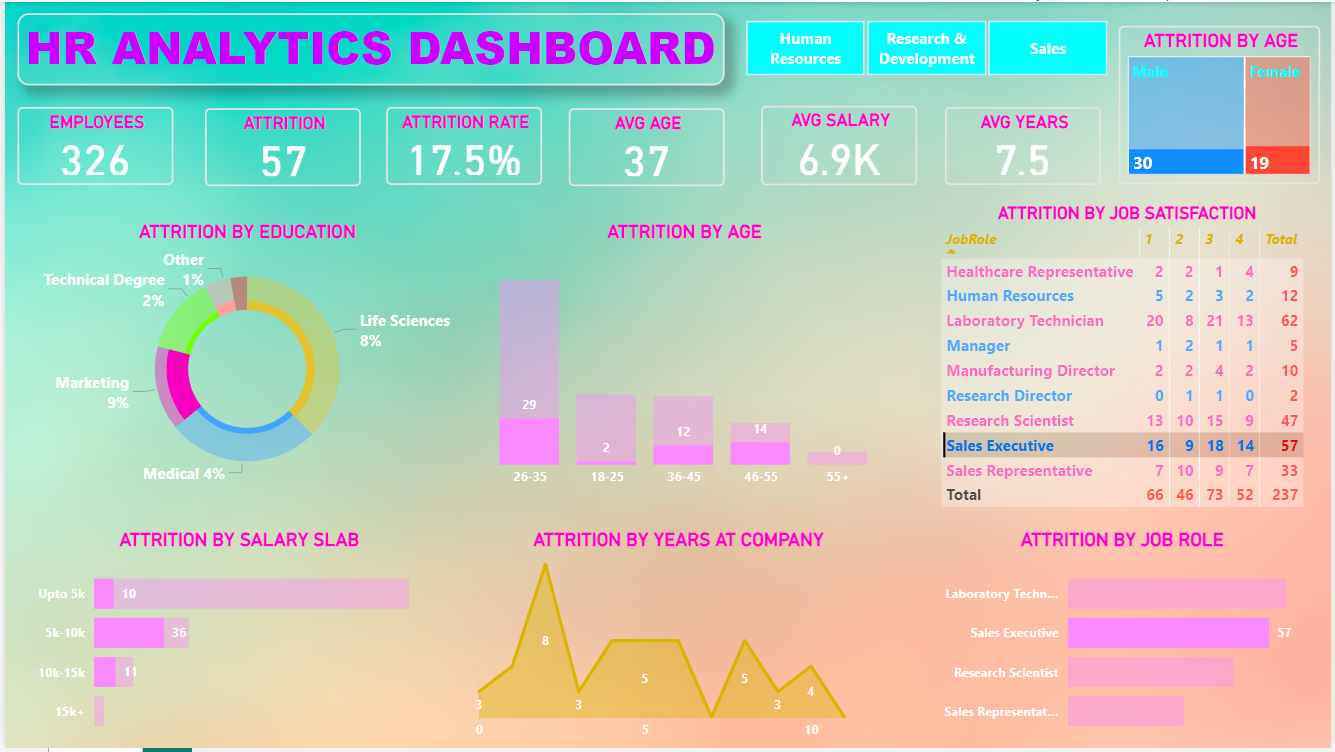

Layout of this report page (visuals, bound fields, positions):
{"tool":"powerbi","page":{"name":"Page 1","canvas":[1280,720],"ordinal":0},"visuals":[{"type":"card","title":"EMPLOYEES","fields":{"Values":["CountNonNull(HR_Analytics.EmpID)"]},"box":[11.7,101.6,150.3,75.1],"z":0},{"type":"card","title":"ATTRITION","fields":{"Values":["Sum(HR_Analytics.AttritionCount)"]},"box":[193,102.3,150.3,75.1],"z":1000},{"type":"card","title":"ATTRITION RATE","fields":{"Values":["HR_Analytics.AttritionRate"]},"box":[367.9,101.1,150.3,75.1],"z":2000},{"type":"card","title":"AVG AGE","fields":{"Values":["Avg(HR_Analytics.Age)"]},"box":[544.1,102.3,150.3,75.1],"z":3000},{"type":"card","title":"AVG SALARY","fields":{"Values":["Avg(HR_Analytics.MonthlyIncome)"]},"box":[729.4,99.8,150.3,76.4],"z":4000},{"type":"card","title":"AVG YEARS","fields":{"Values":["Avg(HR_Analytics.YearsAtCompany)"]},"box":[906.9,101.1,150.3,75.1],"z":5000},{"type":"donutChart","title":"ATTRITION BY EDUCATION","fields":{"Category":["HR_Analytics.EducationField"],"Y":["Sum(HR_Analytics.AttritionCount)"]},"box":[25.9,211.2,417.2,265.6],"z":6000},{"type":"columnChart","title":"ATTRITION BY AGE","fields":{"Category":["HR_Analytics.AgeGroup"],"Y":["Sum(HR_Analytics.AttritionCount)"]},"box":[443.1,211.2,426.2,265.6],"z":7000},{"type":"pivotTable","title":"ATTRITION BY JOB SATISFACTION","fields":{"Rows":["HR_Analytics.JobRole"],"Columns":["HR_Analytics.JobSatisfaction"],"Values":["Sum(HR_Analytics.AttritionCount)"]},"box":[896.5,193,373.1,301.9],"z":8000},{"type":"barChart","title":"ATTRITION BY SALARY SLAB","fields":{"Category":["HR_Analytics.SalarySlab"],"Y":["Sum(HR_Analytics.AttritionCount)"]},"box":[25.9,507.9,401.6,212.5],"z":9000},{"type":"barChart","title":"ATTRITION BY JOB ROLE","fields":{"Category":["HR_Analytics.JobRole"],"Y":["Sum(HR_Analytics.AttritionCount)"]},"box":[888.7,507.9,378.3,212.5],"z":10000},{"type":"stackedAreaChart","title":"ATTRITION BY YEARS AT COMPANY","fields":{"Category":["HR_Analytics.YearsAtCompany"],"Y":["Sum(HR_Analytics.AttritionCount)"]},"box":[443.1,507.9,414.6,212.5],"z":11000},{"type":"treemap","title":"ATTRITION BY AGE","fields":{"Group":["HR_Analytics.Gender"],"Values":["Sum(HR_Analytics.AttritionCount)"]},"box":[1075.3,23.3,194.3,152.9],"z":12000},{"type":"slicer","fields":{"Values":["HR_Analytics.Department"]},"box":[689.2,10.4,399,67.4],"z":13000},{"type":"textbox","box":[11.7,10.4,682.8,70],"z":14000}]}

Visuals, with their boxes in screenshot pixels (x1, y1, x2, y2), scaled from the page's 1280x720 canvas onto the 1335x752 screenshot:
"EMPLOYEES" card: [12,106,169,185]
"ATTRITION" card: [201,107,358,185]
"ATTRITION RATE" card: [384,106,540,184]
"AVG AGE" card: [567,107,724,185]
"AVG SALARY" card: [761,104,917,184]
"AVG YEARS" card: [946,106,1103,184]
"ATTRITION BY EDUCATION" donutChart: [27,221,462,498]
"ATTRITION BY AGE" columnChart: [462,221,907,498]
"ATTRITION BY JOB SATISFACTION" pivotTable: [935,202,1324,517]
"ATTRITION BY SALARY SLAB" barChart: [27,530,446,751]
"ATTRITION BY JOB ROLE" barChart: [927,530,1321,751]
"ATTRITION BY YEARS AT COMPANY" stackedAreaChart: [462,530,895,751]
"ATTRITION BY AGE" treemap: [1122,24,1324,184]
slicer - HR_Analytics.Department: [719,11,1135,81]
textbox: [12,11,724,84]
